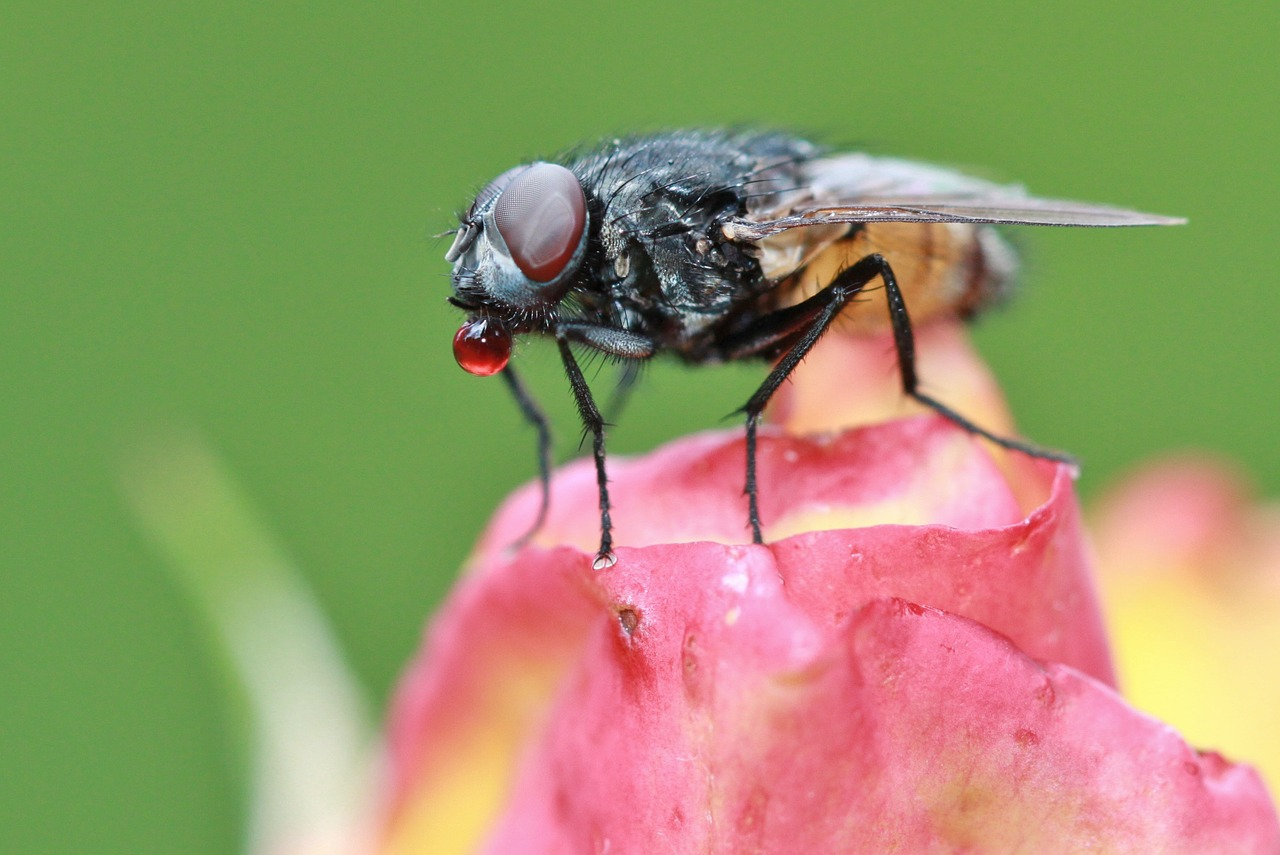house fly: (413, 98, 1198, 577)
